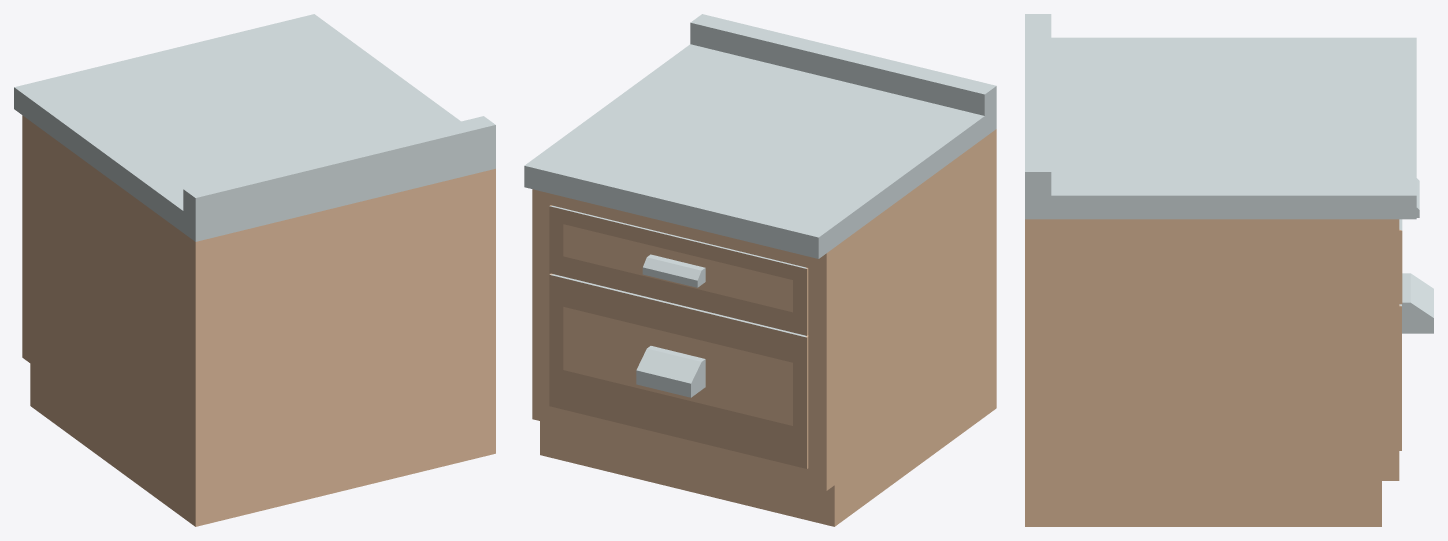
The model's file is KitchenDrawer.fbx.
The picture shows the model from 3 angles, left to right: view 1: azimuth 30°, elevation 25°; view 2: azimuth 150°, elevation 25°; view 3: azimuth 270°, elevation 25°; orthographic projection. The views are drawn at different scales.
Visible parts, largest first — view 1: kitchenCabinetDrawer; view 2: kitchenCabinetDrawer; view 3: kitchenCabinetDrawer.
Part boxes in pixels (x1=…): kitchenCabinetDrawer: x1=14, y1=14, x2=495, y2=526; kitchenCabinetDrawer: x1=524, y1=14, x2=996, y2=526; kitchenCabinetDrawer: x1=1025, y1=14, x2=1433, y2=526.
Size of the model in its own units: 43 by 45 by 46.98.
